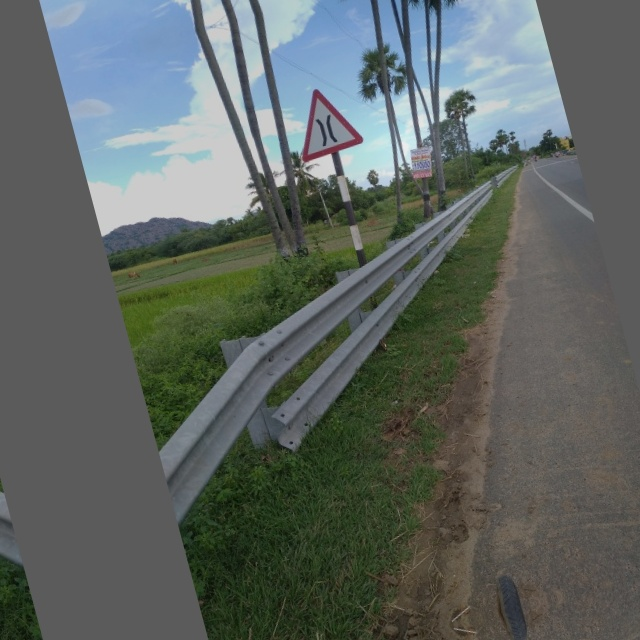Narrow_Bridge: (278, 72, 378, 170)
